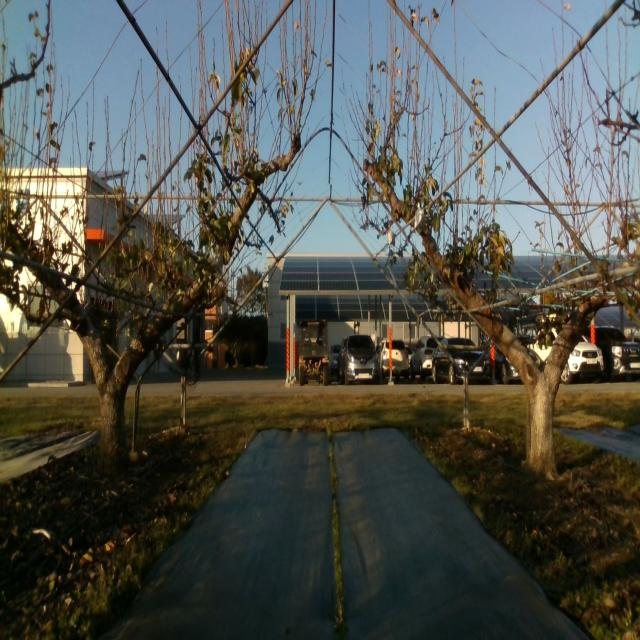pearbags: (211, 250, 224, 276), (414, 202, 425, 230)
